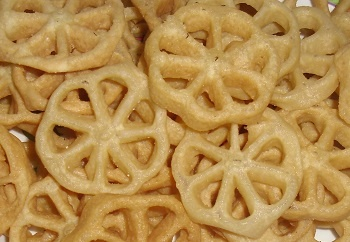kembang_goyang: (128, 16, 279, 126), (38, 64, 162, 193), (176, 112, 298, 237)
